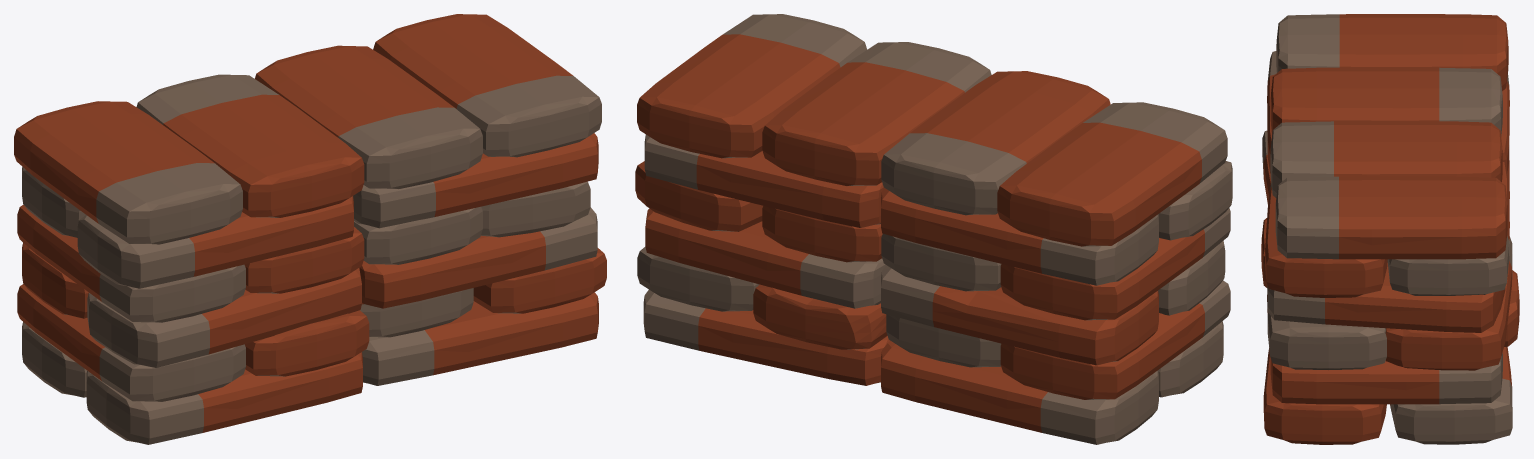
The model's file is CementC2_01.fbx.
3 views of the same model, side by side, from view 1: azimuth 30°, elevation 25°; view 2: azimuth 150°, elevation 25°; view 3: azimuth 270°, elevation 25° (orthographic). The views are drawn at different scales.
Visible parts, largest first — view 1: CementC2_01; view 2: CementC2_01; view 3: CementC2_01.
Boxes of the visible parts, x1,y1,x2,y2 form: CementC2_01: (14,14,606,444); CementC2_01: (635,14,1232,444); CementC2_01: (1261,14,1519,444).
Bounding box in the file's own units: 146 × 68.91 × 71.45.
